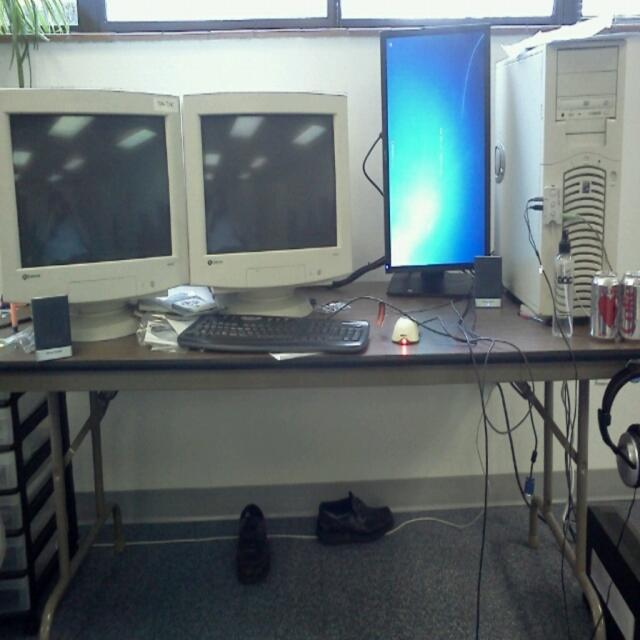desk: (0, 280, 639, 638)
keyboard: (176, 312, 371, 355)
mouse: (390, 315, 420, 345)
tv: (1, 87, 188, 310), (183, 91, 353, 291), (380, 28, 490, 292)
